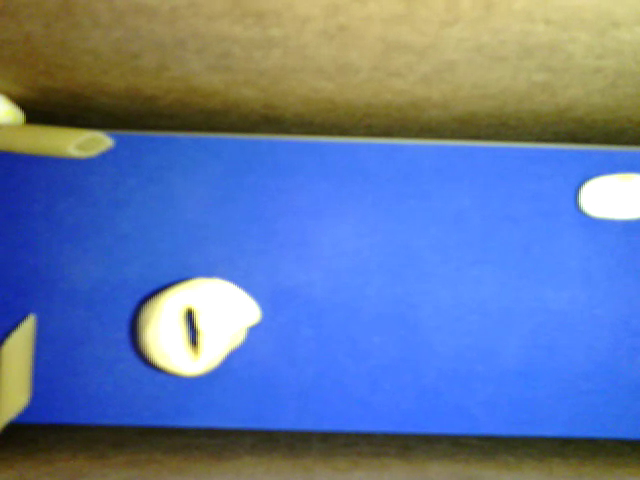penne: (1, 312, 37, 430), (1, 123, 115, 158)
tortellini: (134, 276, 264, 378)
